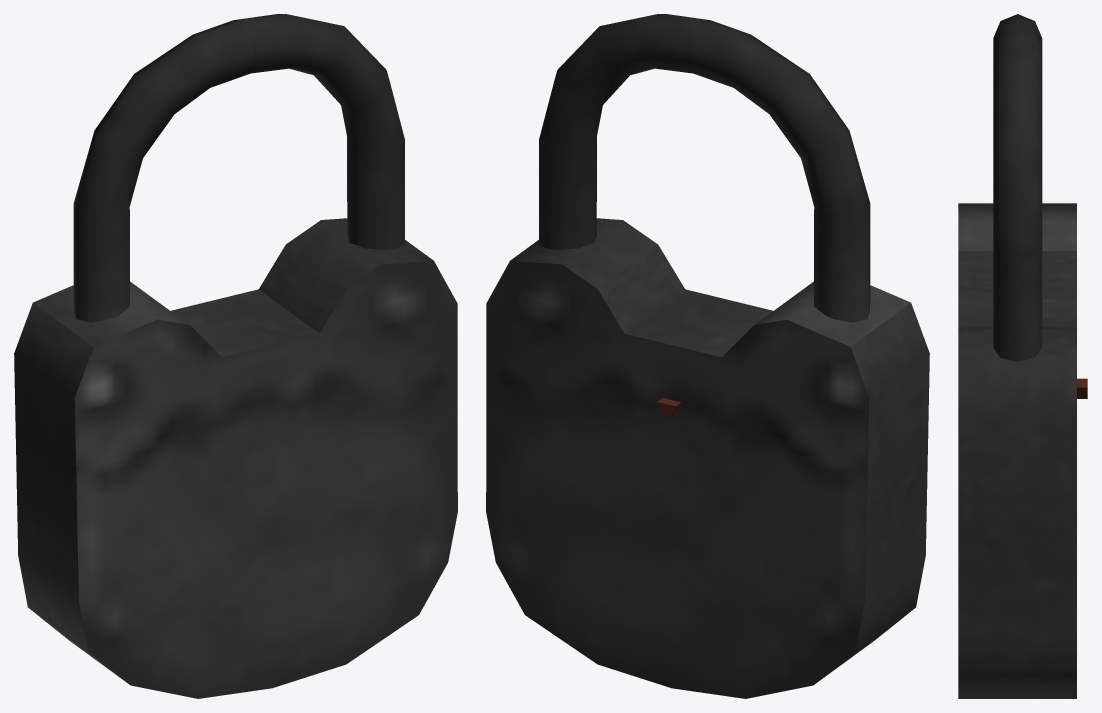
Rendered from padlock_4.obj.
The picture shows the model from 3 angles, left to right: view 1: azimuth 30°, elevation 25°; view 2: azimuth 150°, elevation 25°; view 3: azimuth 270°, elevation 25°; orthographic projection. The views are drawn at different scales.
Visible parts, largest first — view 1: padlock_4, padlock_4_shackle; view 2: padlock_4, padlock_4_shackle; view 3: padlock_4, padlock_4_shackle.
Boxes of the visible parts, x1=… form: padlock_4: x1=14, y1=218, x2=457, y2=698; padlock_4_shackle: x1=73, y1=14, x2=404, y2=322; padlock_4: x1=486, y1=218, x2=929, y2=698; padlock_4_shackle: x1=539, y1=14, x2=870, y2=322; padlock_4: x1=958, y1=203, x2=1087, y2=698; padlock_4_shackle: x1=993, y1=14, x2=1042, y2=361.
Size of the model in its own units: 0.0806 by 0.1299 by 0.0241.
